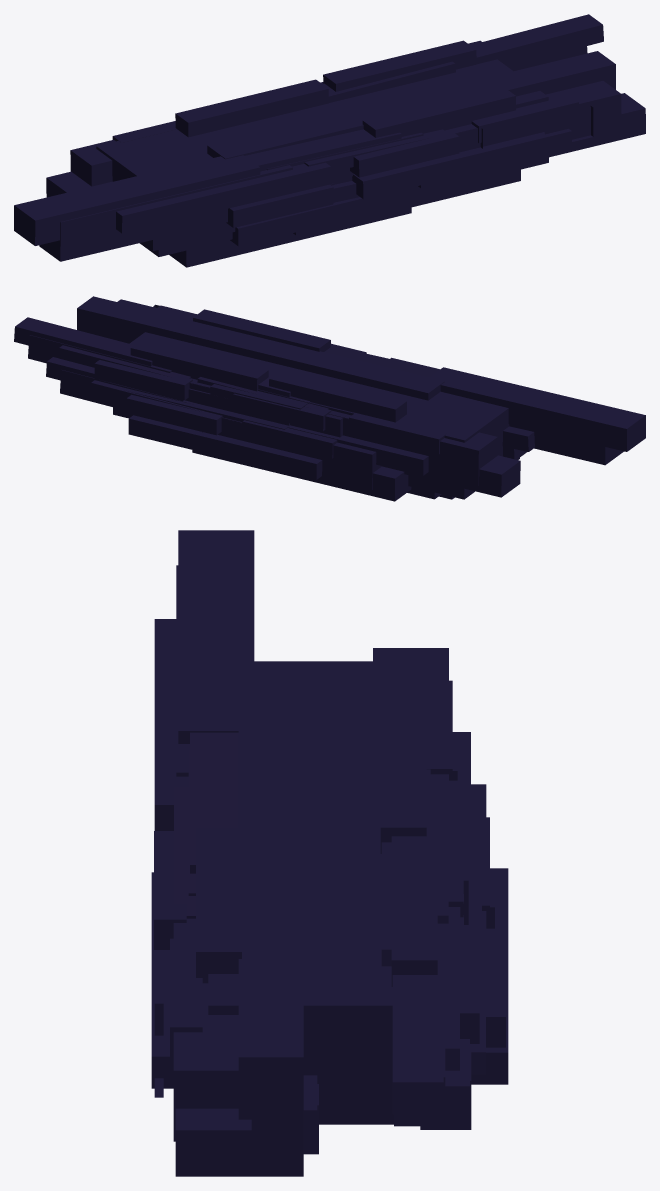
Rendered from DesertRoad.fbx.
The picture shows the model from 3 angles, top to bottom: view 1: azimuth 30°, elevation 25°; view 2: azimuth 150°, elevation 25°; view 3: azimuth 270°, elevation 25°; orthographic projection. The views are drawn at different scales.
Parts seen in each view (by area): view 1: Cube.027; view 2: Cube.027; view 3: Cube.027.
Part boxes in pixels (x1,y1,x2,y2): Cube.027: (14,14,645,267); Cube.027: (14,296,645,501); Cube.027: (151,530,508,1176).
Bounding box in the file's own units: 3048 × 515 × 832.
